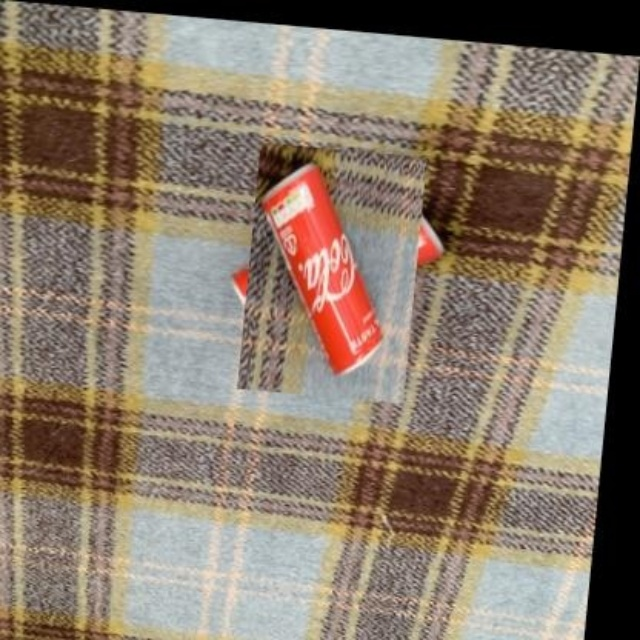trash: (262, 163, 382, 372)
